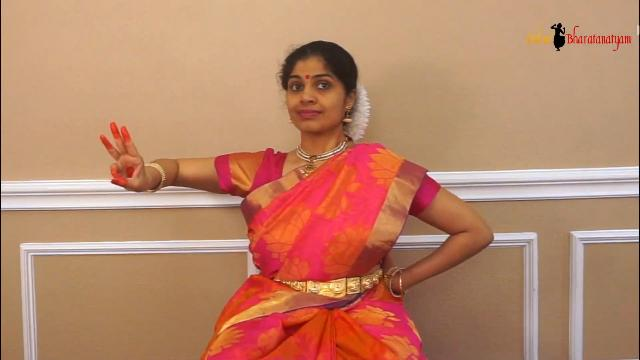trishool: (75, 97, 178, 216)
